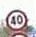limite 40: (3, 8, 28, 30)
